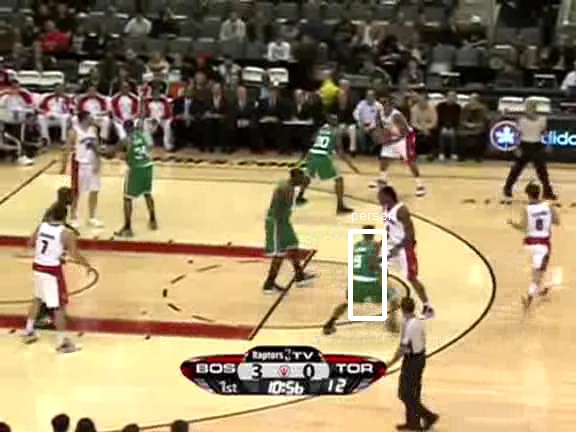person: (346, 235, 380, 316), (345, 235, 379, 316), (347, 235, 381, 316), (346, 234, 380, 315), (346, 236, 380, 317)
target_negative: (21, 124, 159, 430), (113, 302, 329, 387), (45, 114, 178, 243), (406, 15, 459, 253), (182, 320, 407, 345), (526, 40, 549, 76)
